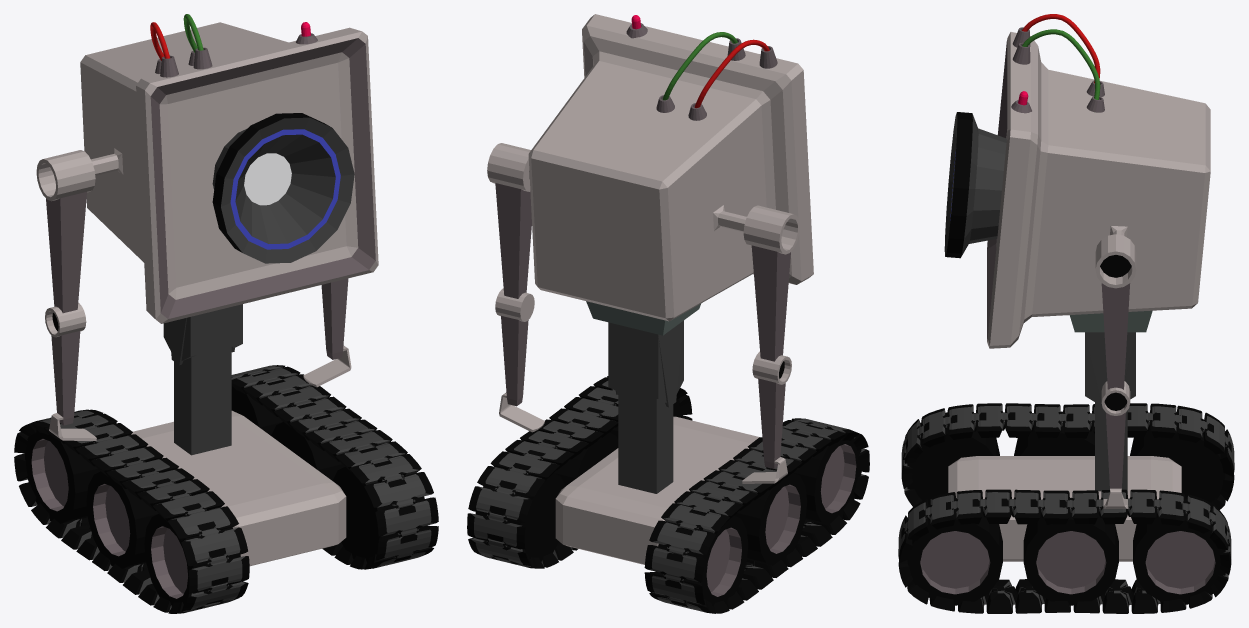
File: butterMachine.glb
3 renders of one model, left to right at view 1: azimuth 30°, elevation 25°; view 2: azimuth 150°, elevation 25°; view 3: azimuth 270°, elevation 25°, orthographic. The views are drawn at different scales.
Parts seen in each view (by area): view 1: Cylinder, bottom, Cube.001, Cube.002, Cube.004; view 2: Cylinder, bottom, Cube.001, Cube.003, Cube.004, Cube.002; view 3: bottom, Cylinder, Cube.003, Cube.004.
Part boxes in pixels (x1,y1,x2,y2): Cylinder: (80,14,378,365); bottom: (14,346,438,613); Cube.001: (36,150,95,313); Cube.002: (45,302,96,440); Cube.004: (303,278,351,387); Cylinder: (528,14,813,407); bottom: (467,376,869,613); Cube.001: (743,205,799,361); Cube.003: (487,143,531,298); Cube.004: (495,288,544,432); Cube.002: (742,351,791,483); bottom: (898,402,1234,613); Cylinder: (944,14,1210,411); Cube.003: (1095,234,1136,389); Cube.004: (1101,381,1130,508).
Size of the model in its own units: 45.67 by 77.05 by 46.12.
Materials: 1 (1 with a texture image).
